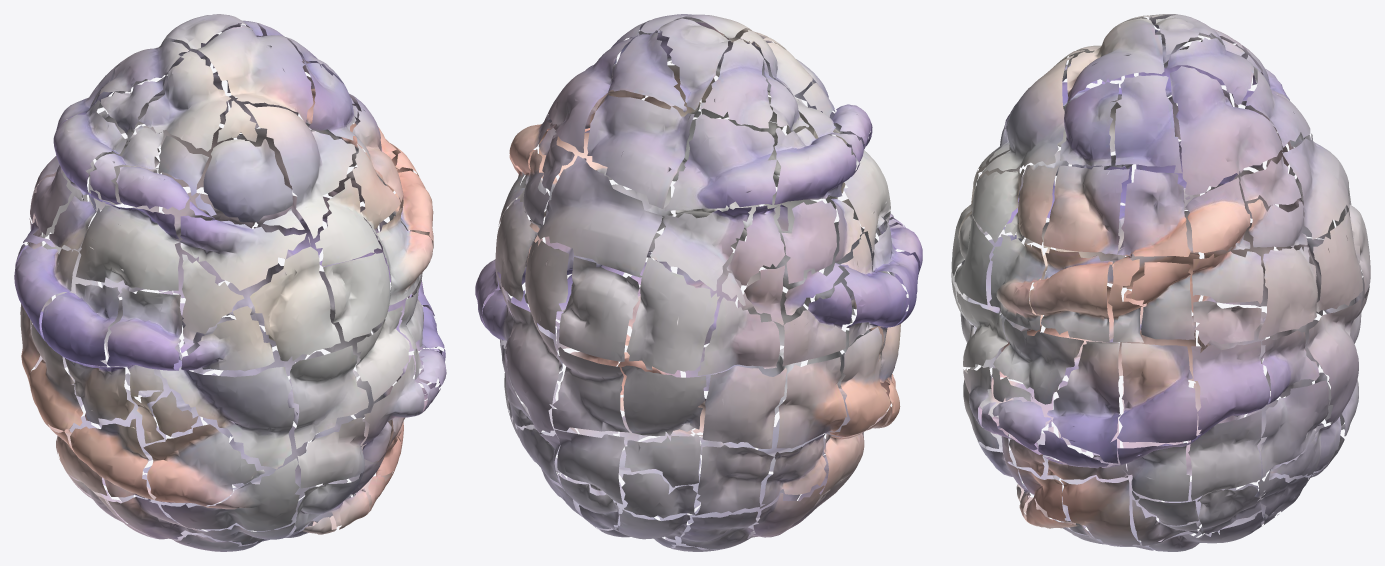
File: oeuf.glb
The picture shows the model from 3 angles, left to right: view 1: azimuth 30°, elevation 25°; view 2: azimuth 150°, elevation 25°; view 3: azimuth 270°, elevation 25°; orthographic projection.
Parts seen in each view (by area): view 1: mesh_node; view 2: mesh_node; view 3: mesh_node.
Part boxes in pixels (box(x1,y1,x2,y2)): mesh_node: box(14, 14, 446, 551); mesh_node: box(475, 14, 922, 551); mesh_node: box(951, 14, 1370, 551).
Bounding box in the file's own units: 1.56 × 1.9 × 1.42.
Materials: 1 (1 with a texture image).
